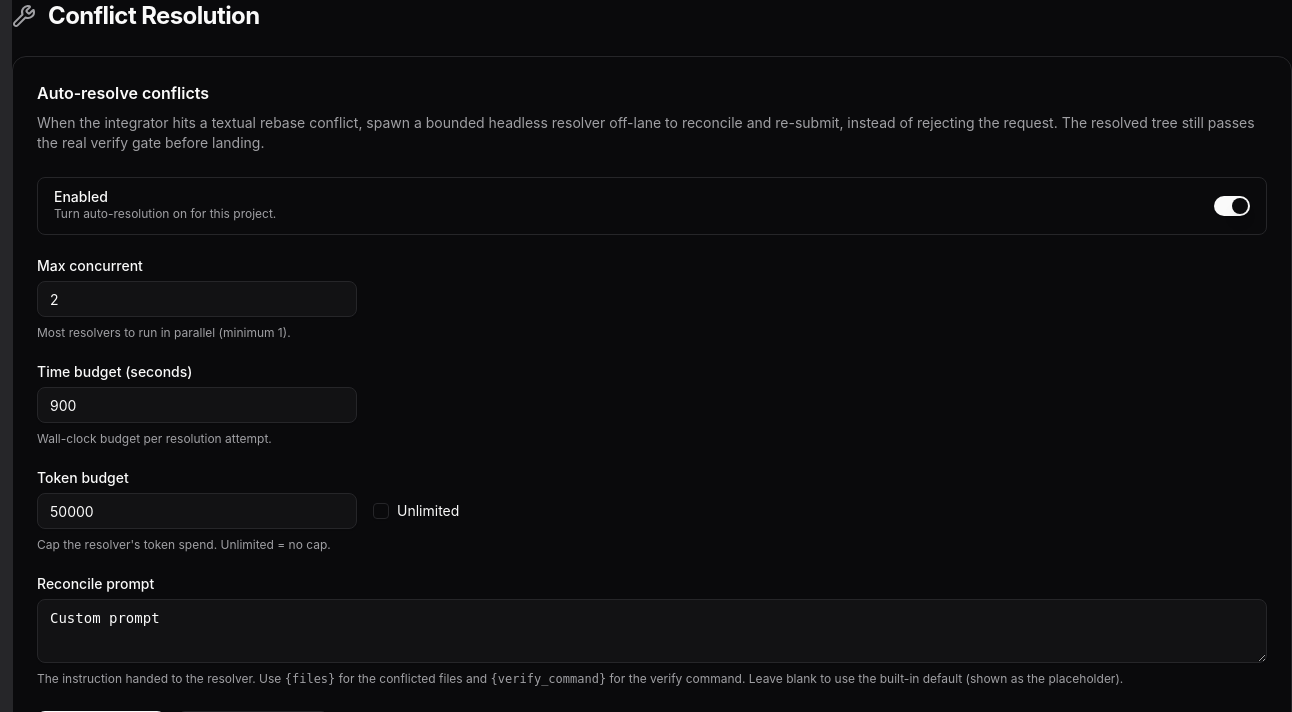
Test: ConflictResolutionPage — validation › disables Save when max_concurrent is 0
Replace the text in the number field labelled "Max concurrent" with "0". click: (197, 299)
box: [37,281,357,317]
(page scrolled)
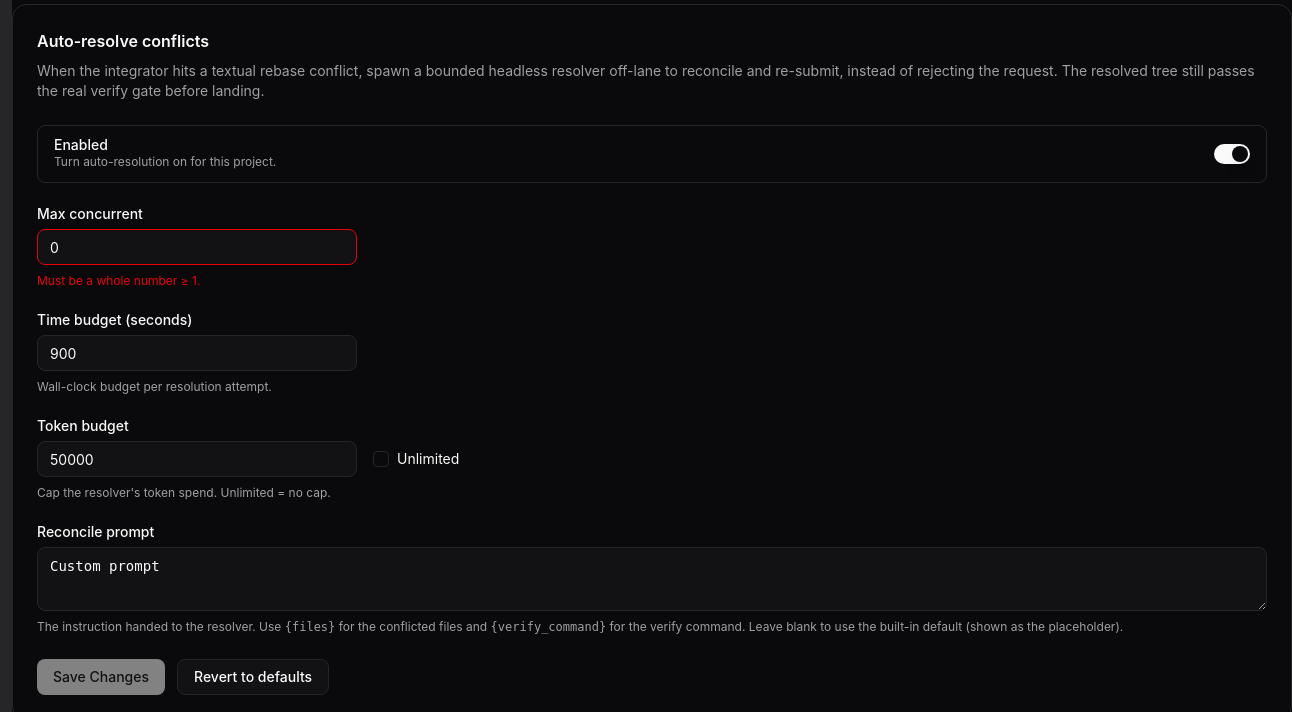
Expected: the button "Save Changes" is disabled, [37,659,165,695]
